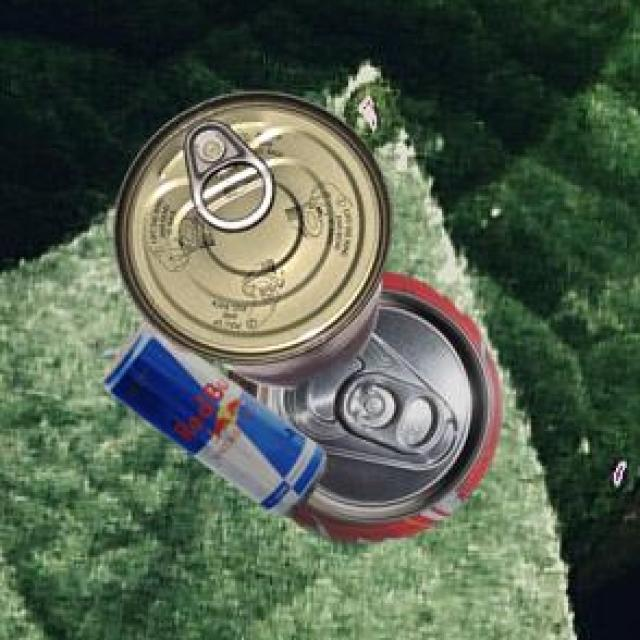logam: (112, 90, 389, 386), (225, 269, 500, 539), (95, 319, 323, 513)
